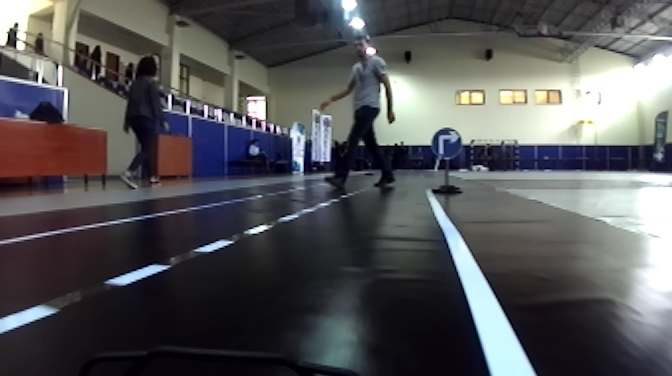saga_donus: (430, 127, 461, 161)
